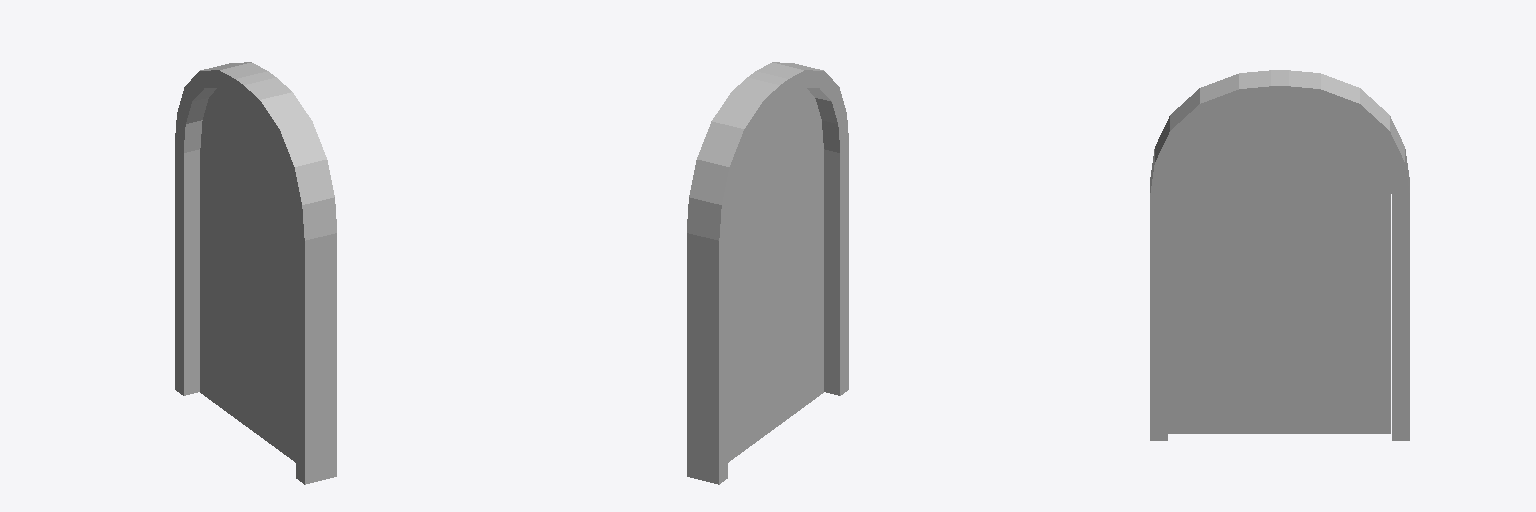
3 views of the same model, side by side, from view 1: azimuth 30°, elevation 25°; view 2: azimuth 150°, elevation 25°; view 3: azimuth 270°, elevation 25° (orthographic).
Visible parts, largest first — view 1: 无标题.006_无标题.011, 06_02_无标题.008, 06_01_无标题.009; view 2: 无标题.006_无标题.011, 06_01_无标题.009, 06_02_无标题.008; view 3: 06_02_无标题.008, 06_01_无标题.009, 无标题.006_无标题.011.
Part boxes in pixels (x1,y1,x2,y2): 无标题.006_无标题.011: (175, 62, 336, 484); 06_02_无标题.008: (200, 88, 256, 433); 06_01_无标题.009: (257, 114, 295, 462); 无标题.006_无标题.011: (687, 62, 848, 484); 06_01_无标题.009: (769, 88, 823, 432); 06_02_无标题.008: (728, 112, 768, 462); 06_02_无标题.008: (1278, 103, 1390, 433); 06_01_无标题.009: (1168, 103, 1277, 433); 无标题.006_无标题.011: (1150, 70, 1409, 440).
Bounding box in the file's own units: 0.0213 × 0.2205 × 0.1463.